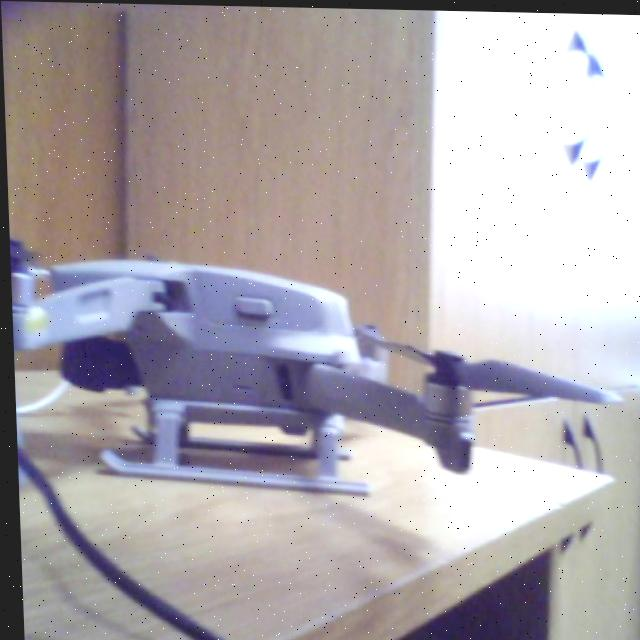drone: (7, 239, 583, 527)
